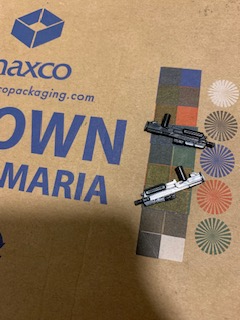rifle: (143, 111, 216, 154), (131, 165, 203, 208)
